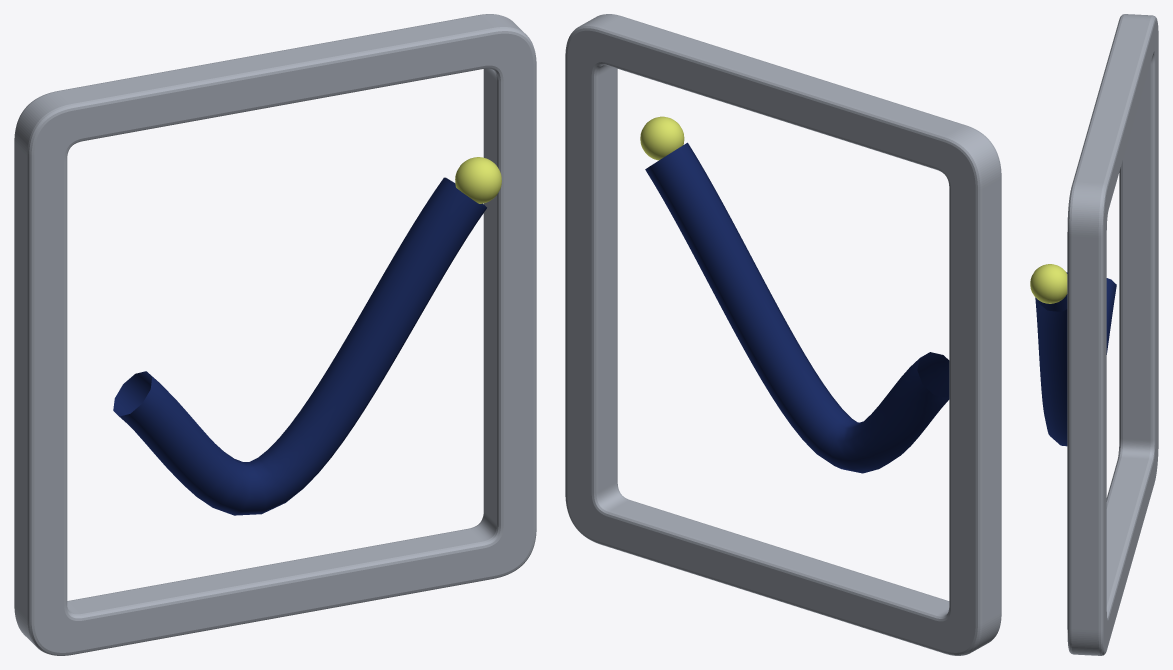
The picture shows the model from 3 angles, left to right: view 1: azimuth 30°, elevation 25°; view 2: azimuth 150°, elevation 25°; view 3: azimuth 270°, elevation 25°; orthographic projection. The views are drawn at different scales.
Visible parts, largest first — view 1: source review boundary, evidence check, signal node; view 2: source review boundary, evidence check, signal node; view 3: source review boundary, evidence check, signal node.
Boxes of the visible parts, <box> form: source review boundary: <box>14,14,536,655</box>; evidence check: <box>113,177,486,515</box>; signal node: <box>455,157,501,203</box>; source review boundary: <box>565,14,1001,655</box>; evidence check: <box>645,142,949,473</box>; signal node: <box>640,116,684,160</box>; source review boundary: <box>1067,14,1158,655</box>; evidence check: <box>1035,272,1116,446</box>; signal node: <box>1030,264,1067,303</box>.
Bounding box in the file's own units: 1.53 × 1.68 × 0.4177.
